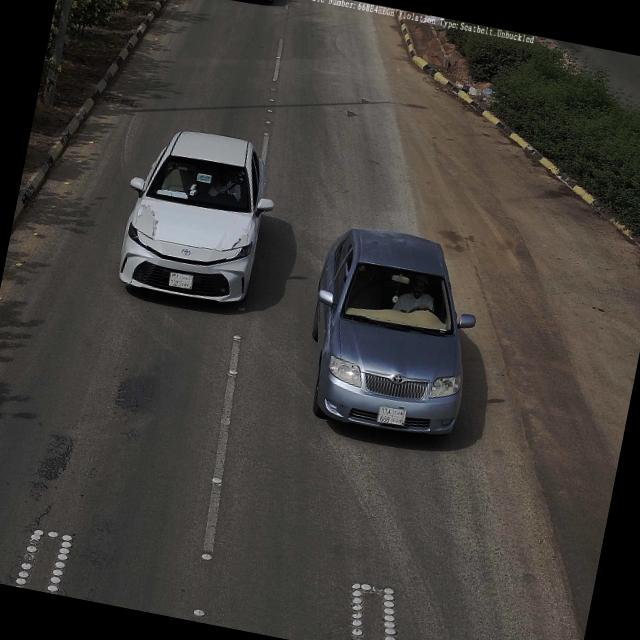person_with_seatbelt: (209, 168, 245, 202)
person_without_seatbelt: (393, 274, 440, 320)
